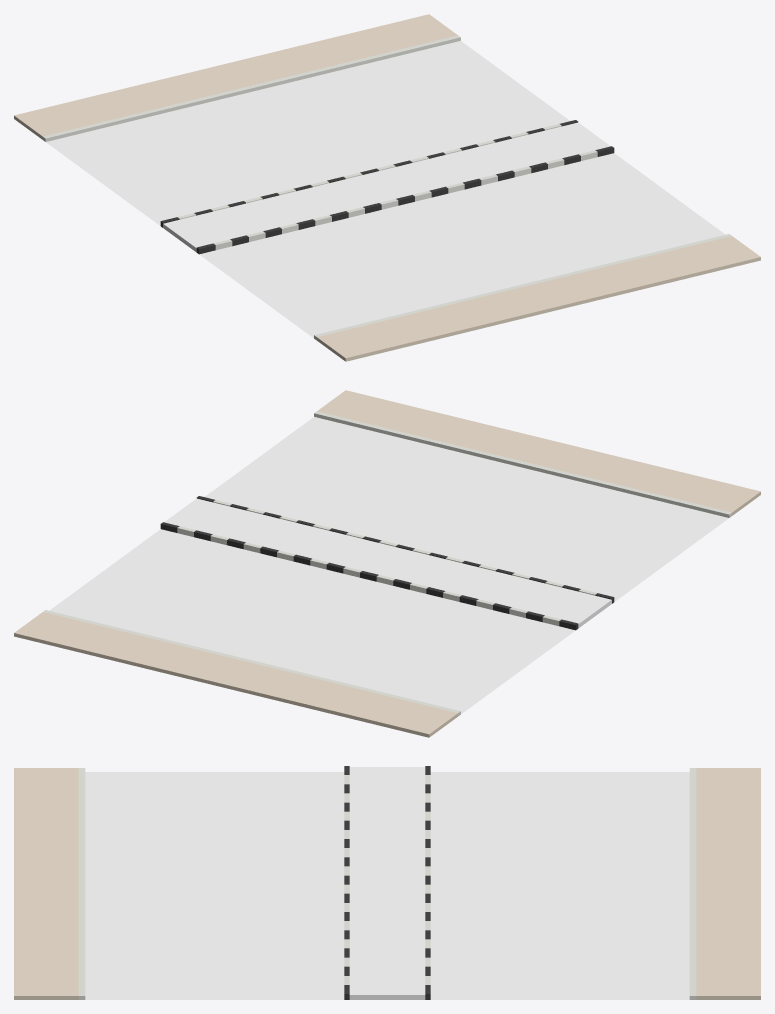
Rendered from SM_Road_KingFahd_25m.fbx.
3 renders of one model, top to bottom at view 1: azimuth 30°, elevation 25°; view 2: azimuth 150°, elevation 25°; view 3: azimuth 270°, elevation 25°, orthographic. The views are drawn at different scales.
Parts seen in each view (by area): view 1: SM_Road_KingFahd_25m; view 2: SM_Road_KingFahd_25m; view 3: SM_Road_KingFahd_25m.
Part boxes in pixels (left/top/right/bottom): SM_Road_KingFahd_25m: left=14, top=14, right=760, bottom=361; SM_Road_KingFahd_25m: left=14, top=390, right=760, bottom=737; SM_Road_KingFahd_25m: left=14, top=766, right=760, bottom=999.
Bounding box in the file's own units: 2500 × 30 × 3460.
